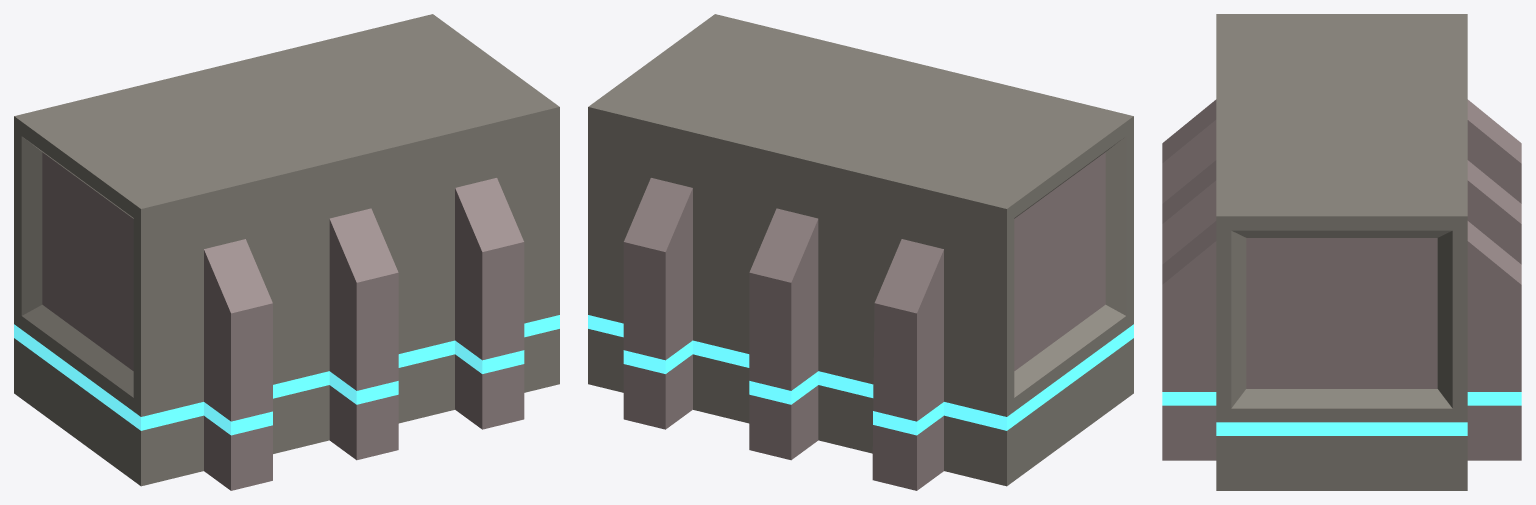
Rendered from ContainerBig.fbx.
The picture shows the model from 3 angles, left to right: view 1: azimuth 30°, elevation 25°; view 2: azimuth 150°, elevation 25°; view 3: azimuth 270°, elevation 25°; orthographic projection.
Parts seen in each view (by area): view 1: ContainerBig; view 2: ContainerBig; view 3: ContainerBig.
Part boxes in pixels (x1,y1,x2,y2): ContainerBig: (14, 14, 559, 490); ContainerBig: (588, 14, 1133, 490); ContainerBig: (1162, 14, 1521, 490).
Bounding box in the file's own units: 320 × 203 × 240.
